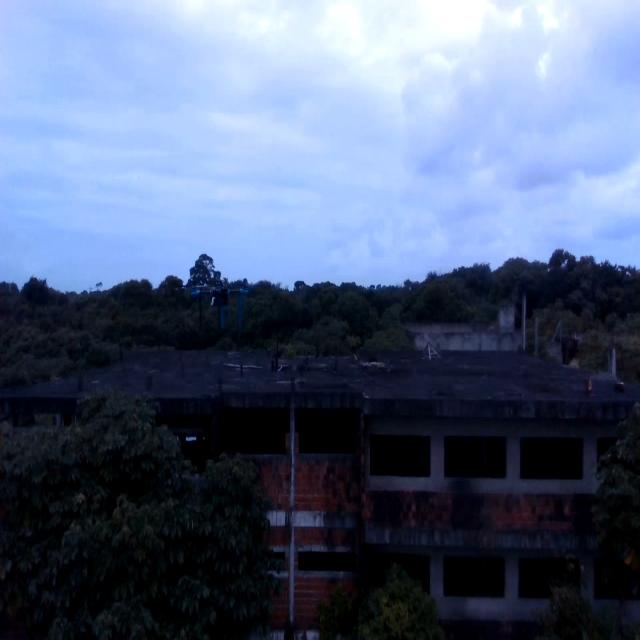-uav-: (182, 274, 260, 341)
